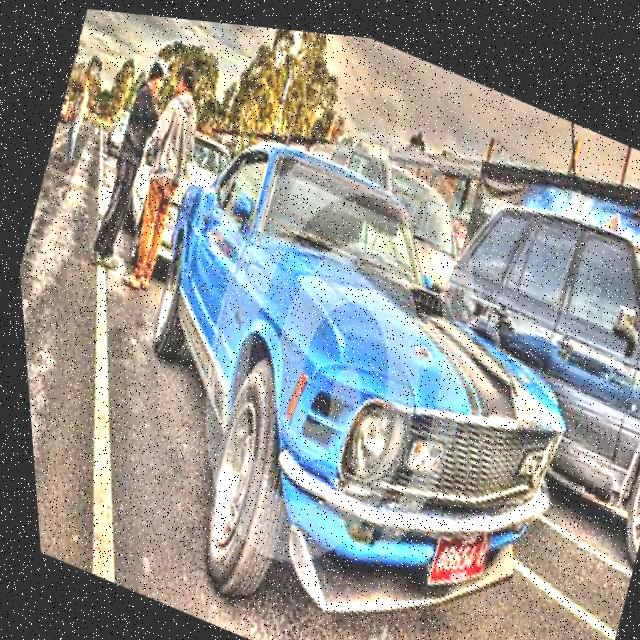license_plate: (404, 499, 490, 600)
